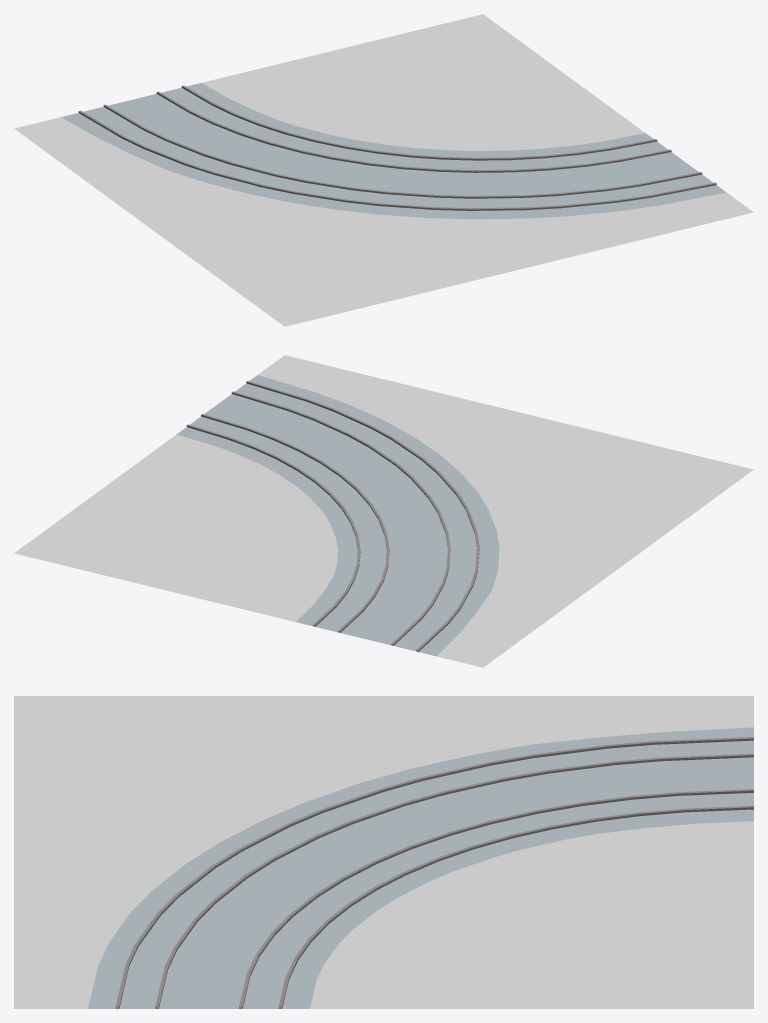
File: tram_railway_003.glb
3 renders of one model, top to bottom at view 1: azimuth 30°, elevation 25°; view 2: azimuth 150°, elevation 25°; view 3: azimuth 270°, elevation 25°, orthographic. The views are drawn at different scales.
Parts seen in each view (by area): view 1: tram_railway_003; view 2: tram_railway_003; view 3: tram_railway_003.
Part boxes in pixels (<box>): tram_railway_003: <box>14,14,753,326</box>; tram_railway_003: <box>14,355,753,667</box>; tram_railway_003: <box>14,696,753,1008</box>.
Size of the model in its own units: 30 by 0.1 by 30.
1 material, 1 textured.
